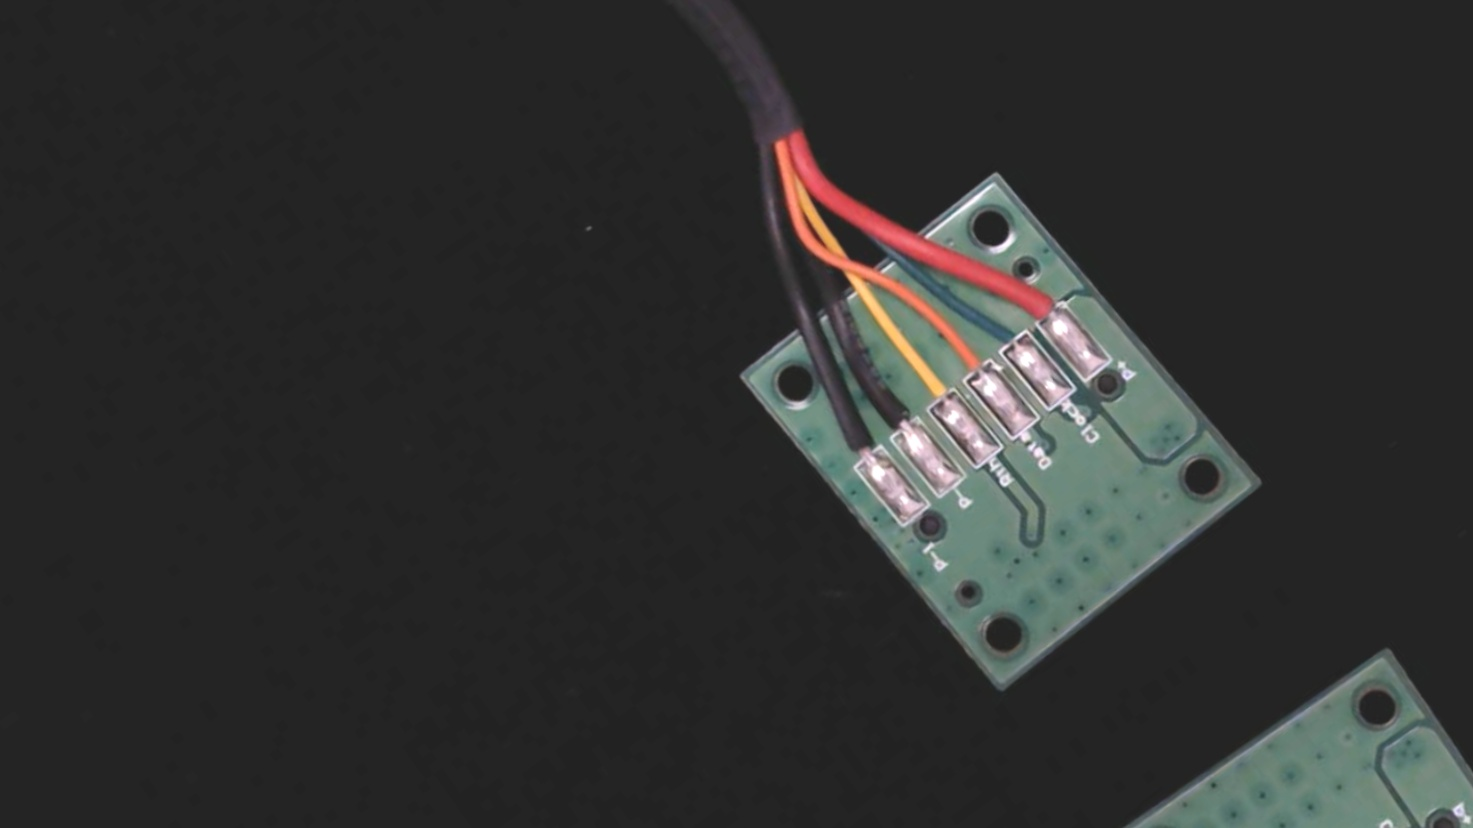Black: (845, 360, 933, 457)
Black1: (812, 394, 894, 484)
Green: (968, 291, 1045, 371)
Orange: (922, 307, 1007, 400)
Red: (1003, 264, 1079, 344)
Yellow: (881, 333, 971, 430)
